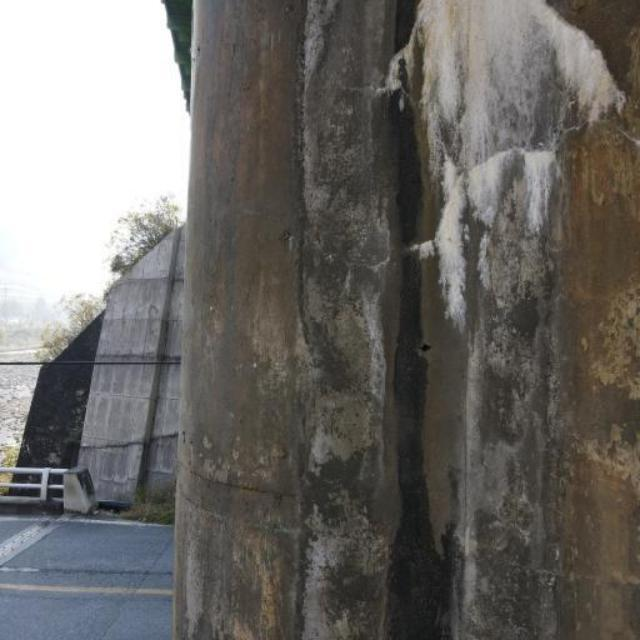D01: (378, 2, 624, 329)
